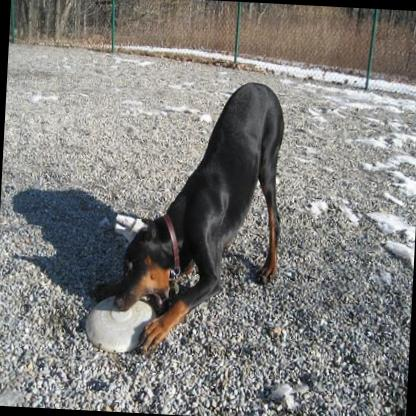Doberman: (90, 71, 288, 359)
